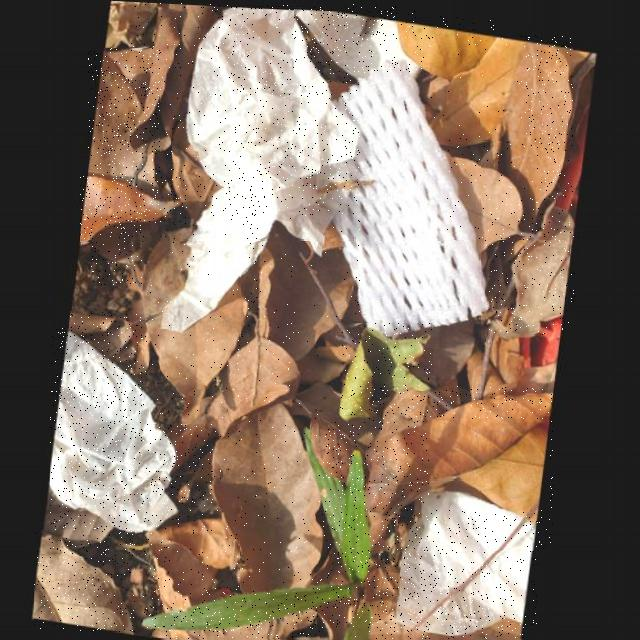biowaste: (144, 423, 373, 628), (367, 386, 554, 551), (215, 399, 326, 592), (143, 226, 248, 424), (131, 2, 214, 186), (367, 553, 525, 639), (259, 215, 355, 356), (208, 308, 301, 435), (489, 200, 575, 335), (505, 36, 573, 202), (430, 419, 550, 510), (89, 49, 160, 198), (443, 146, 545, 247), (431, 32, 525, 141), (34, 531, 135, 632), (148, 509, 242, 610), (340, 323, 432, 416), (81, 176, 181, 242), (395, 17, 498, 75), (173, 115, 222, 235), (153, 606, 320, 639), (91, 219, 159, 285), (70, 312, 151, 356), (345, 598, 376, 639)
paper: (162, 4, 360, 330), (50, 328, 181, 531), (399, 485, 537, 631), (294, 7, 420, 73)
